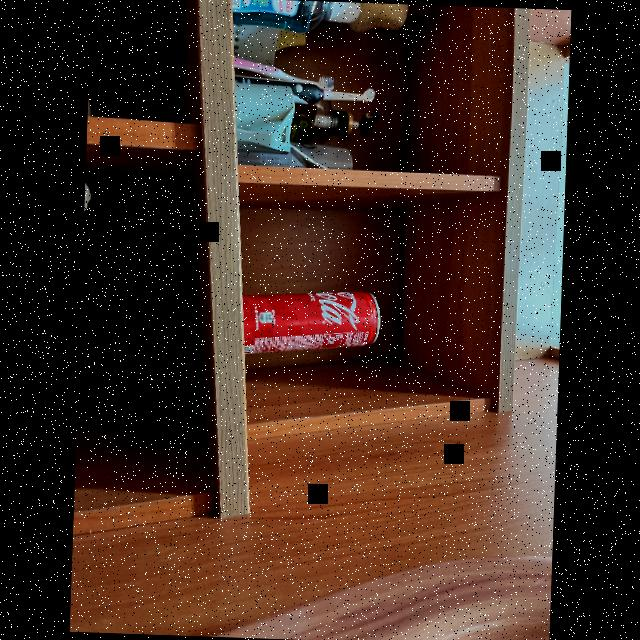can: (241, 284, 385, 364)
